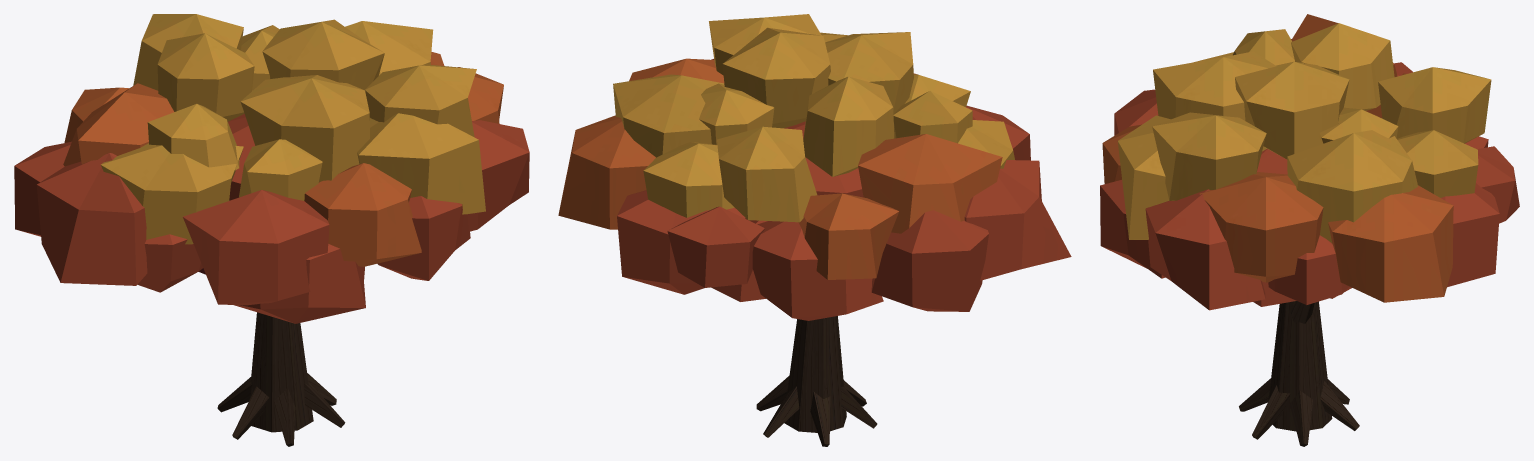
The model's file is tree_broadleaf_02_autumn.glb.
The picture shows the model from 3 angles, left to right: view 1: azimuth 30°, elevation 25°; view 2: azimuth 150°, elevation 25°; view 3: azimuth 270°, elevation 25°; orthographic projection. The views are drawn at different scales.
Visible parts, largest first — view 1: tree_broadleaf_02_autumn; view 2: tree_broadleaf_02_autumn; view 3: tree_broadleaf_02_autumn.
Boxes of the visible parts, x1,y1,x2,y2 form: tree_broadleaf_02_autumn: [14, 14, 529, 446]; tree_broadleaf_02_autumn: [558, 14, 1071, 446]; tree_broadleaf_02_autumn: [1100, 14, 1519, 446].
Bounding box in the file's own units: 6.74 × 5.58 × 5.61.
5 materials, 5 textured.
